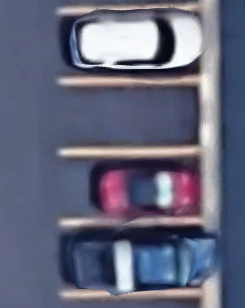Occupied: (57, 5, 199, 80), (57, 222, 199, 295), (57, 151, 199, 222)
Vacant: (58, 79, 199, 151)
